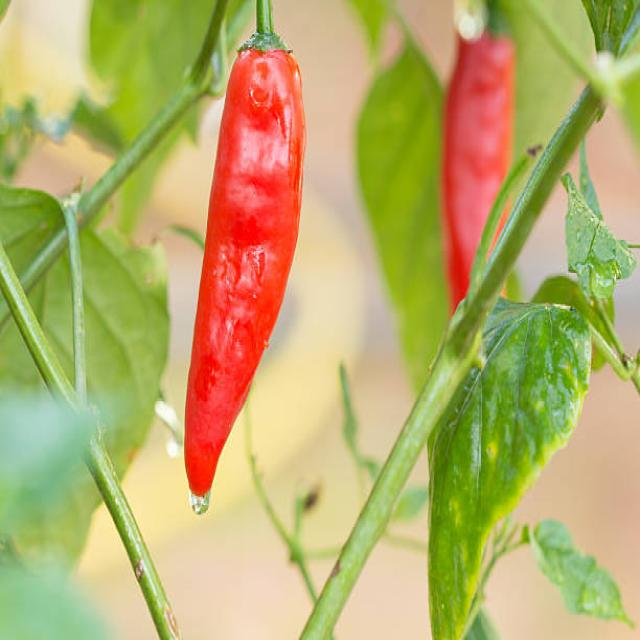Ripe: (183, 0, 306, 516)
